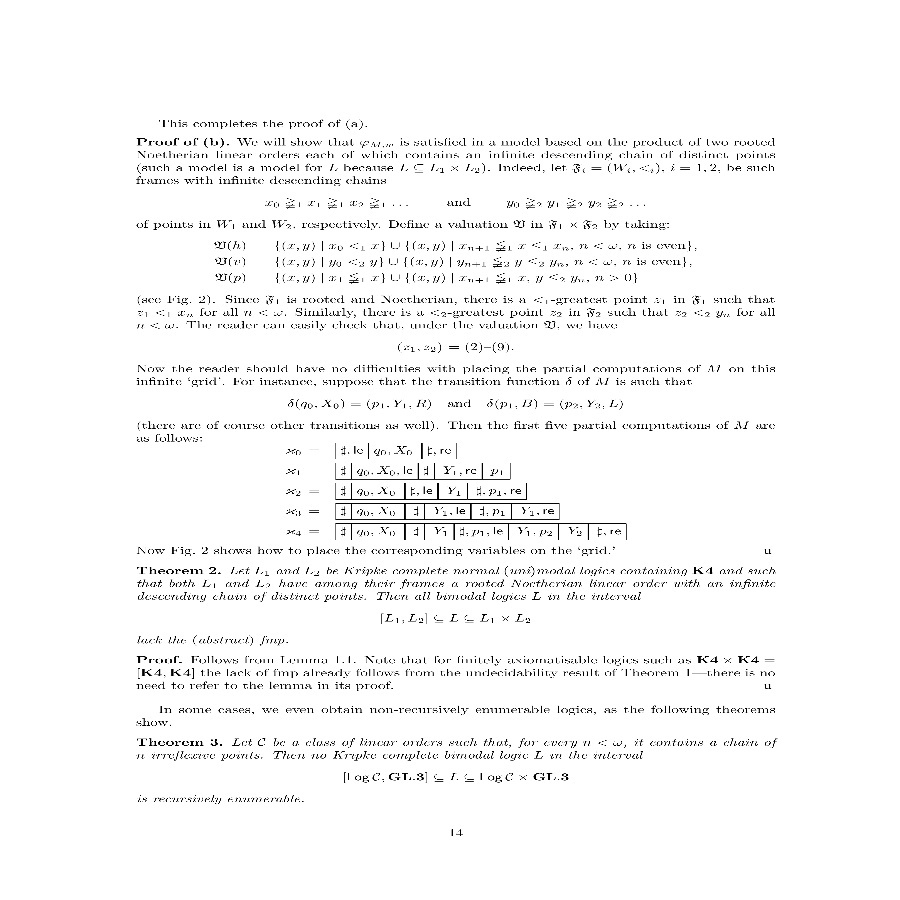eq: (274, 255, 688, 271), (270, 237, 692, 252), (274, 272, 638, 286), (340, 768, 571, 788), (260, 193, 415, 214), (504, 194, 647, 215), (374, 610, 534, 628), (483, 397, 626, 414), (287, 397, 434, 412), (396, 341, 511, 356)
